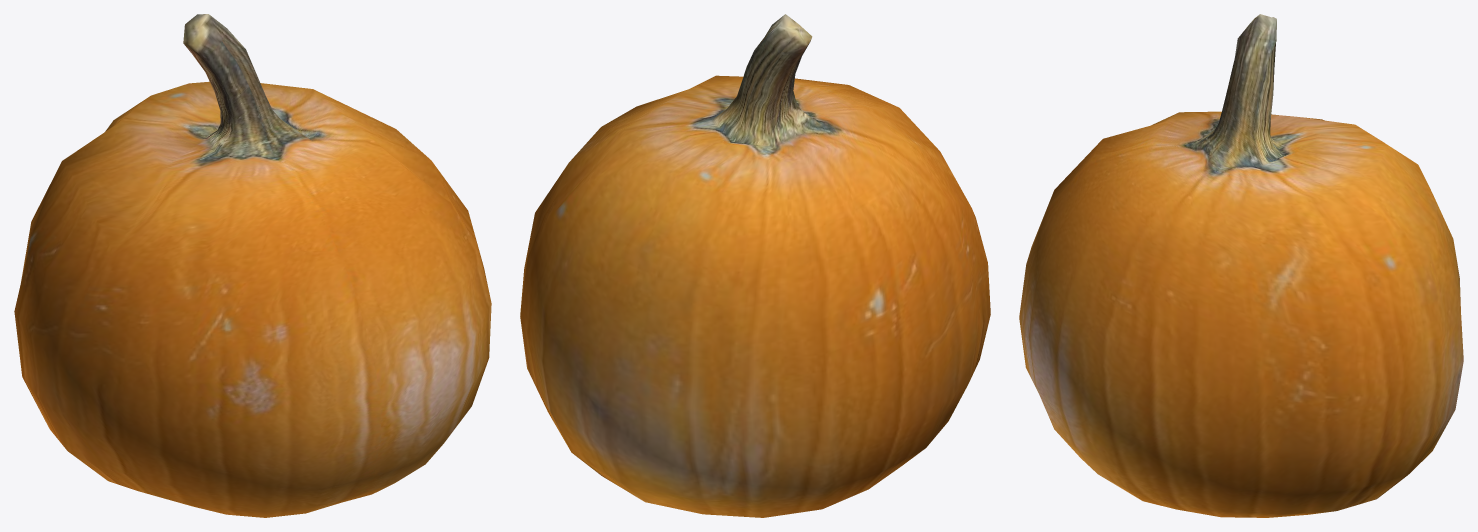
Rendered from A92_Pumpkin_low.fbx.
The picture shows the model from 3 angles, left to right: view 1: azimuth 30°, elevation 25°; view 2: azimuth 150°, elevation 25°; view 3: azimuth 270°, elevation 25°; orthographic projection. The views are drawn at different scales.
Parts seen in each view (by area): view 1: A92_Pumpkin_low; view 2: A92_Pumpkin_low; view 3: A92_Pumpkin_low.
Boxes of the visible parts, x1,y1,x2,y2 form: A92_Pumpkin_low: [14, 14, 491, 517]; A92_Pumpkin_low: [520, 14, 990, 517]; A92_Pumpkin_low: [1019, 14, 1463, 517].
Bounding box in the file's own units: 28.07 × 28.02 × 31.02.
1 material, 1 textured.
